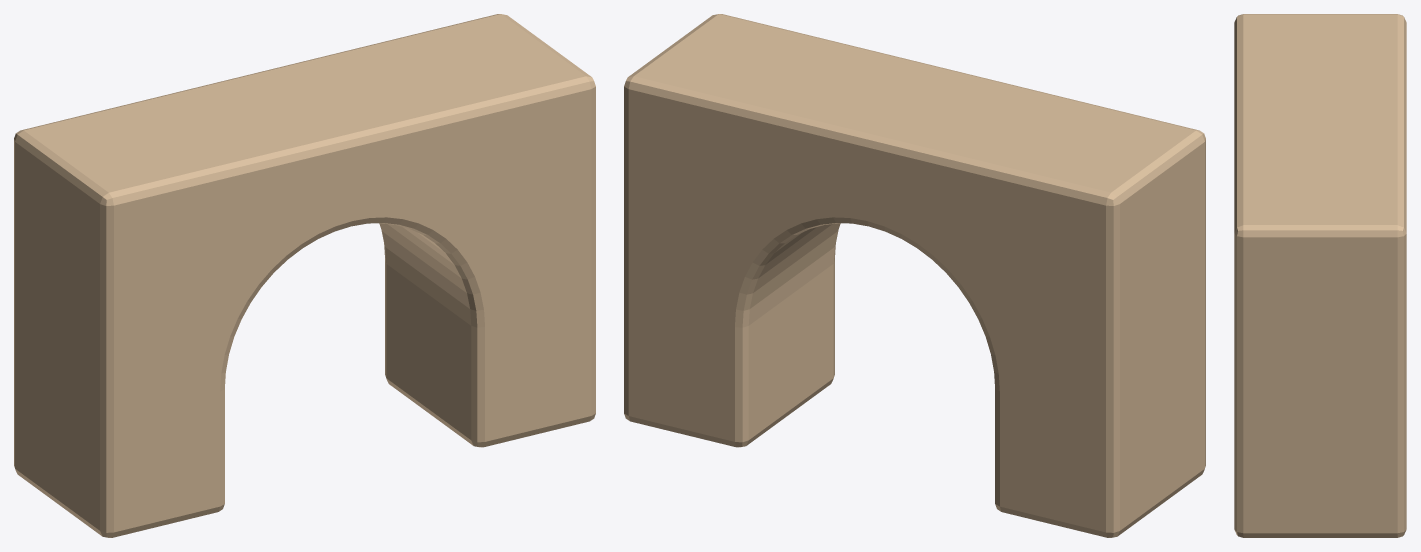
File: toy_arch.glb
The picture shows the model from 3 angles, left to right: view 1: azimuth 30°, elevation 25°; view 2: azimuth 150°, elevation 25°; view 3: azimuth 270°, elevation 25°; orthographic projection. The views are drawn at different scales.
Visible parts, largest first — view 1: toy_arch; view 2: toy_arch; view 3: toy_arch.
Part boxes in pixels (x1,y1,x2,y2): toy_arch: [14, 14, 595, 537]; toy_arch: [624, 14, 1205, 537]; toy_arch: [1234, 14, 1406, 537].
Bounding box in the file's own units: 0.09 × 0.06 × 0.03.
